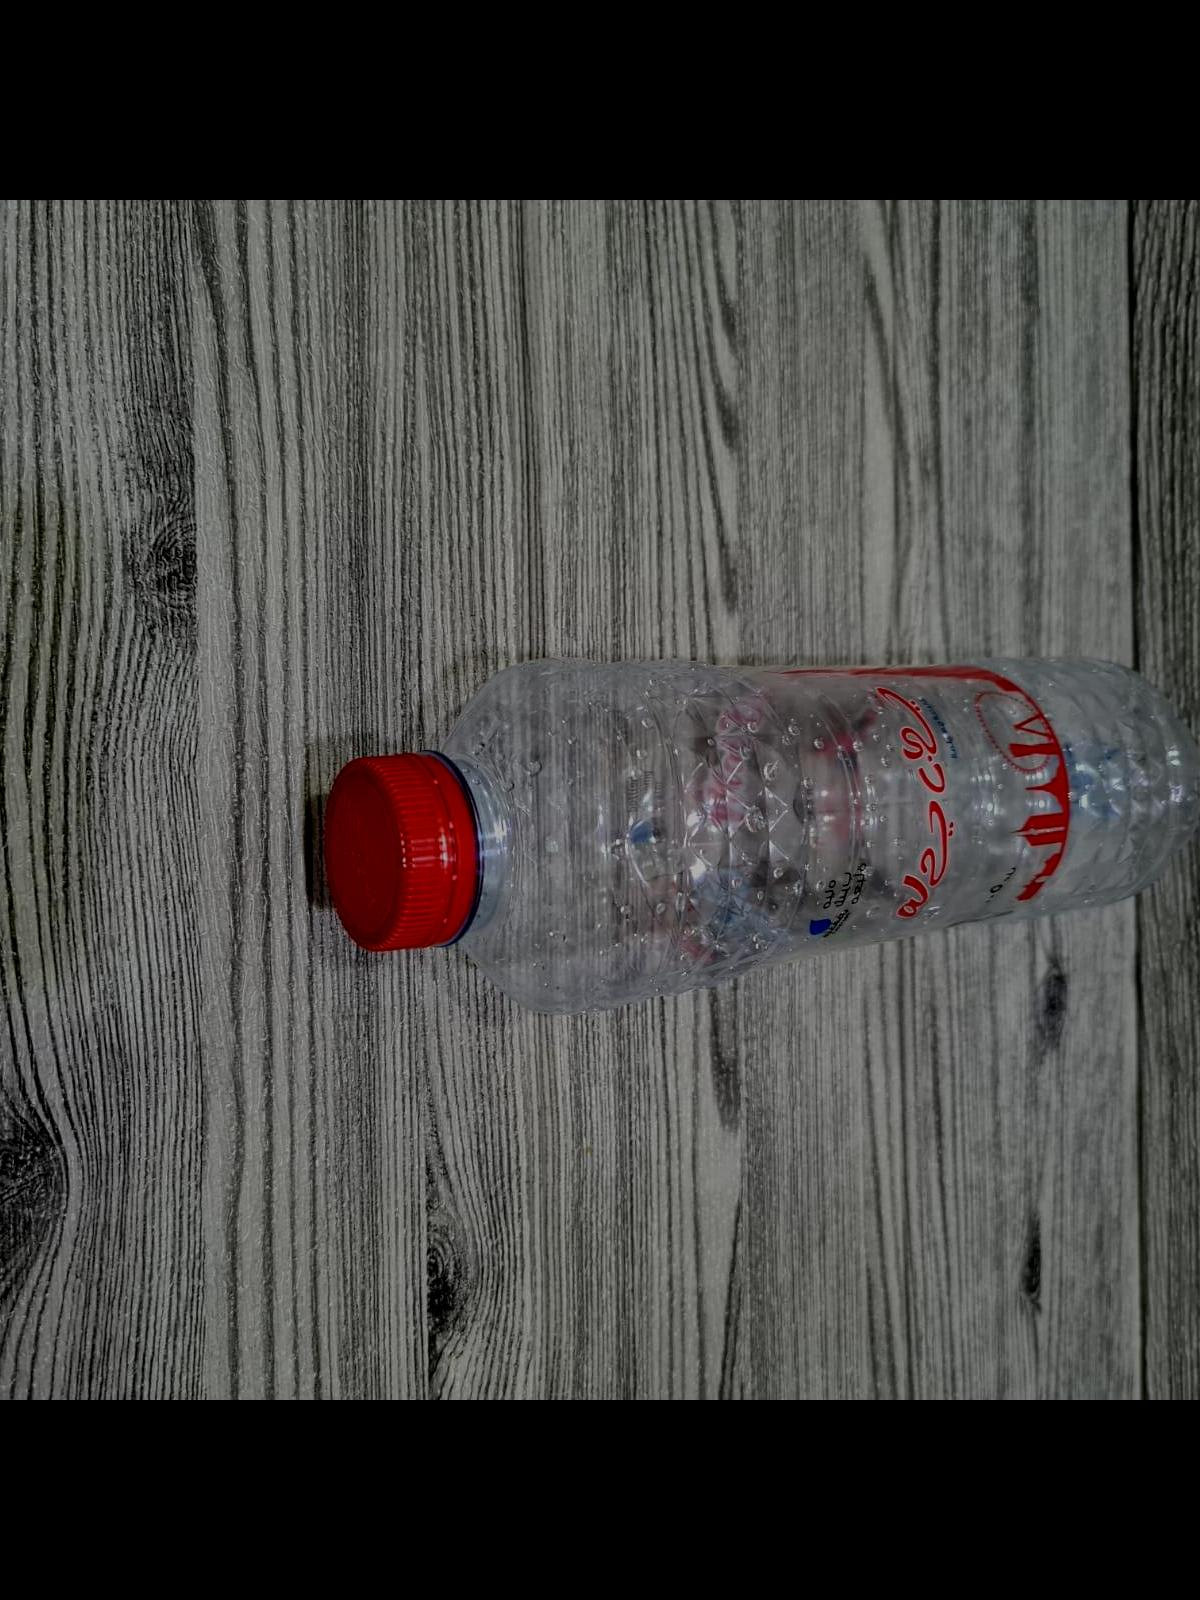bottle: (292, 631, 1200, 1019)
